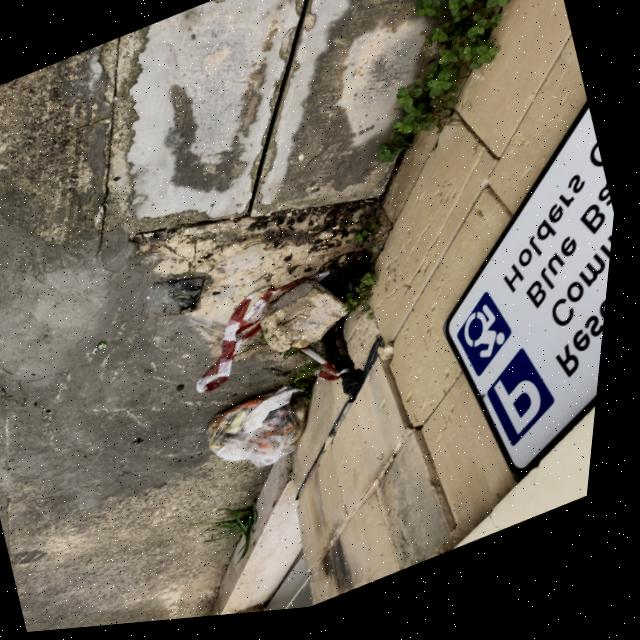Organic Waste -White Bag-: (205, 380, 340, 493)
